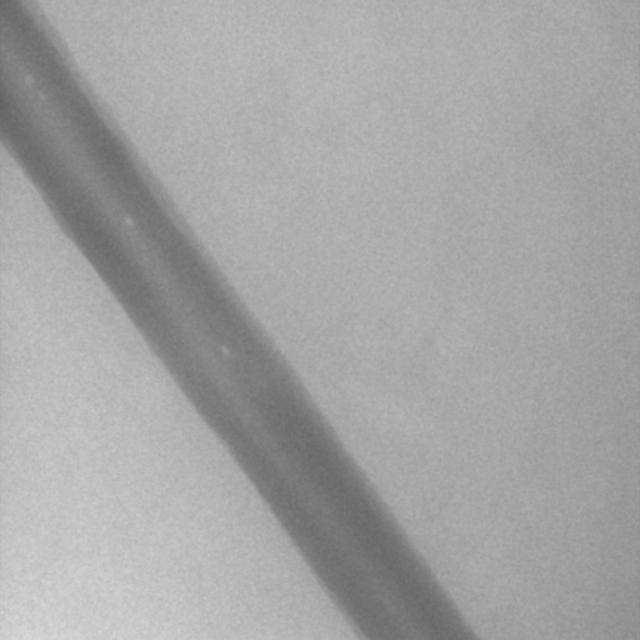air hole: (220, 345, 231, 360), (124, 215, 133, 227)
